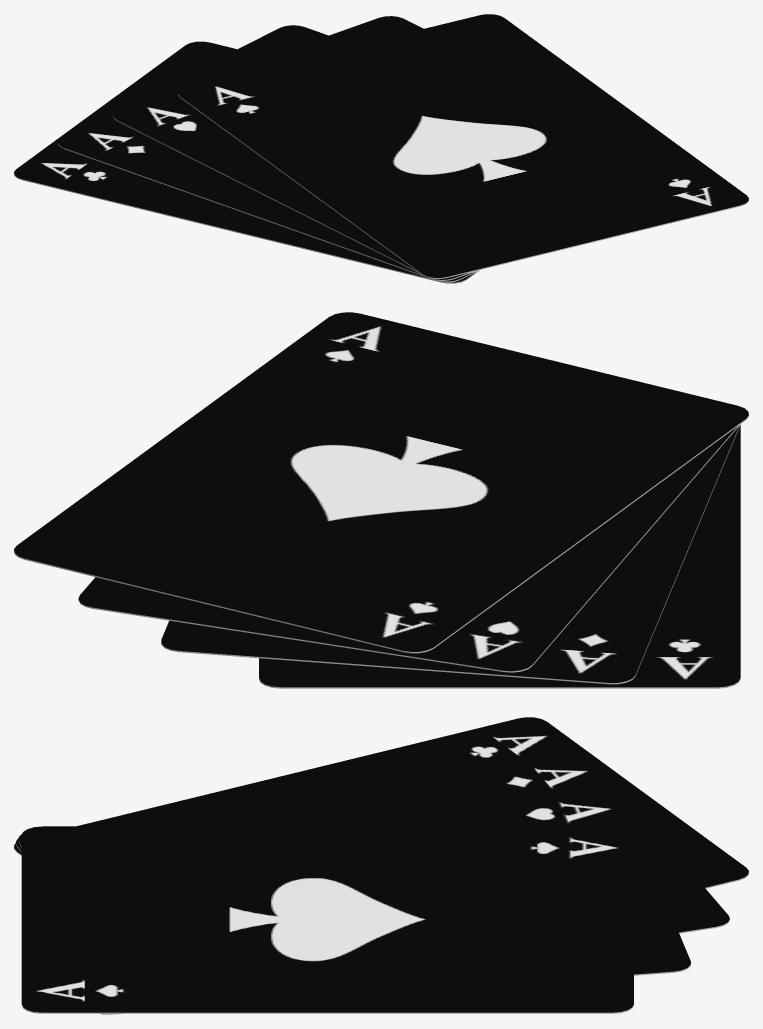
File: cards.glb
3 renders of one model, top to bottom at view 1: azimuth 30°, elevation 25°; view 2: azimuth 150°, elevation 25°; view 3: azimuth 270°, elevation 25°, orthographic. The views are drawn at different scales.
Visible parts, largest first — view 1: card_front_spades, card_front_clubs, card_front_diamond, card_front_heart, card_side_spades, card_side_clubs, card_side_diamond, card_side_heart; view 2: card_front_spades, card_front_clubs, card_front_heart, card_front_diamond, card_side_spades, card_side_heart, card_side_diamond, card_side_clubs; view 3: card_front_spades, card_front_heart, card_front_diamond, card_front_clubs, card_side_spades.
Boxes of the visible parts, <box> form: card_front_spades: <box>178,14,748,277</box>; card_front_clubs: <box>14,41,475,282</box>; card_front_diamond: <box>58,25,472,281</box>; card_front_heart: <box>113,16,467,279</box>; card_side_spades: <box>178,94,748,278</box>; card_side_clubs: <box>14,173,479,283</box>; card_side_diamond: <box>58,143,479,282</box>; card_side_heart: <box>113,116,478,280</box>; card_front_spades: <box>14,312,748,651</box>; card_front_clubs: <box>259,425,740,687</box>; card_front_heart: <box>78,426,737,671</box>; card_front_diamond: <box>161,426,739,682</box>; card_side_spades: <box>14,415,748,653</box>; card_side_heart: <box>78,424,740,672</box>; card_side_diamond: <box>161,425,740,684</box>; card_side_clubs: <box>259,678,740,688</box>; card_front_spades: <box>21,826,633,1012</box>; card_front_heart: <box>18,788,690,974</box>; card_front_diamond: <box>15,751,729,932</box>; card_front_clubs: <box>14,717,748,887</box>; card_side_spades: <box>21,1004,633,1013</box>.
Bounding box in the file's own units: 0.1035 × 0.0011 × 0.1068.
Materials: 4 (3 with a texture image).
